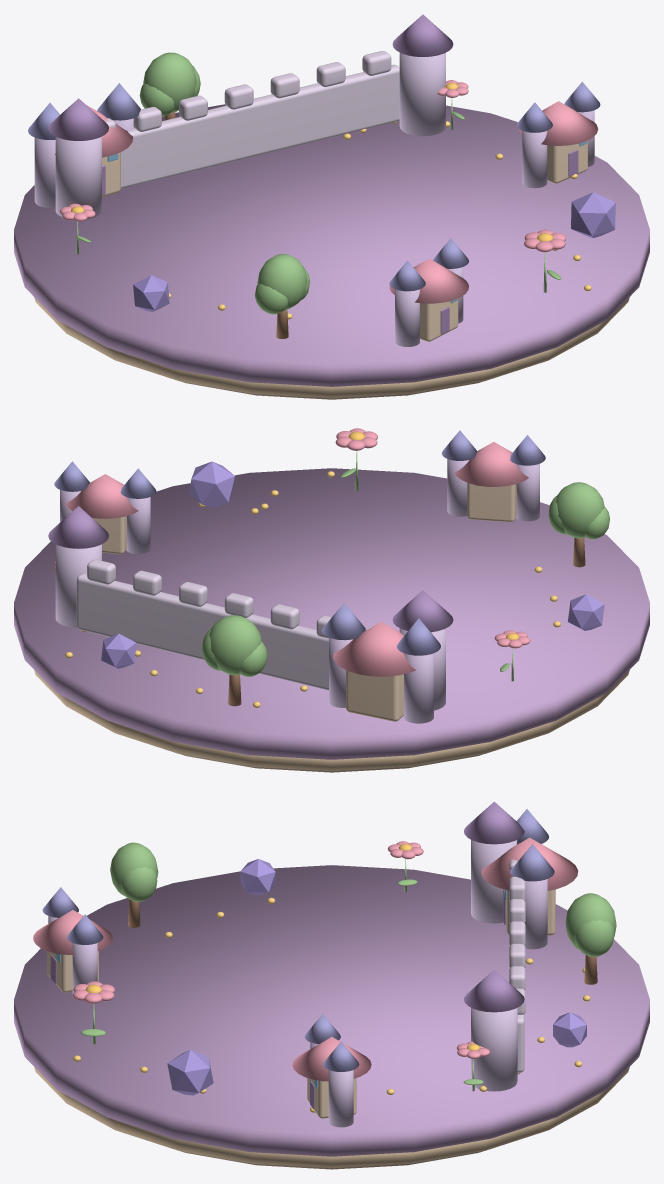
The model's file is world.glb.
The picture shows the model from 3 angles, top to bottom: view 1: azimuth 30°, elevation 25°; view 2: azimuth 150°, elevation 25°; view 3: azimuth 270°, elevation 25°; orthographic projection.
Visible parts, largest first — view 1: Cone, Cube, Cone.001, castle.001, castle.003, castle.002, Cone.005, Cone.003, tree.002, tree.001, gem.003, Cone.006 (+10 smaller); view 2: Cone, Cube, castle.002, castle.003, Cone.001, castle.001, tree.001, tree.002, Cone.005, Cone.006, gem.003, Cone.004 (+11 smaller); view 3: Cone, Cone.001, castle.002, castle.001, castle.003, Cone.005, tree.001, tree.002, Cone.003, Cone.006, Cone.004, gem.003 (+6 smaller).
Part boxes in pixels (<box>): Cone: <box>14,104,649,386</box>; Cube: <box>120,64,399,188</box>; Cone.001: <box>34,297,629,398</box>; castle.001: <box>517,81,600,188</box>; castle.003: <box>389,238,468,346</box>; castle.002: <box>28,83,140,207</box>; Cone.005: <box>399,53,445,136</box>; Cone.003: <box>55,136,101,219</box>; tree.002: <box>254,254,309,338</box>; tree.001: <box>139,52,200,120</box>; gem.003: <box>571,192,615,237</box>; Cone.006: <box>392,14,453,56</box>; Cone: <box>14,468,649,759</box>; Cube: <box>76,573,328,690</box>; castle.002: <box>322,603,440,723</box>; castle.003: <box>442,430,545,522</box>; Cone.001: <box>34,670,629,771</box>; castle.001: <box>54,461,156,554</box>; tree.001: <box>202,615,267,706</box>; tree.002: <box>548,482,609,567</box>; Cone.005: <box>55,544,101,627</box>; Cone.006: <box>48,506,108,548</box>; gem.003: <box>189,461,234,507</box>; Cone.004: <box>392,590,453,632</box>; Cone: <box>14,865,649,1156</box>; Cone.001: <box>34,1067,629,1168</box>; castle.002: <box>481,809,578,949</box>; castle.001: <box>292,1014,371,1127</box>; castle.003: <box>33,887,112,996</box>; Cone.005: <box>471,1008,517,1091</box>; tree.001: <box>565,893,616,984</box>; tree.002: <box>110,842,158,927</box>; Cone.003: <box>471,840,517,923</box>; Cone.006: <box>464,969,524,1012</box>; Cone.004: <box>464,801,524,844</box>; gem.003: <box>167,1049,213,1095</box>.
Size of the model in its own units: 9.6 by 2.67 by 9.6.
